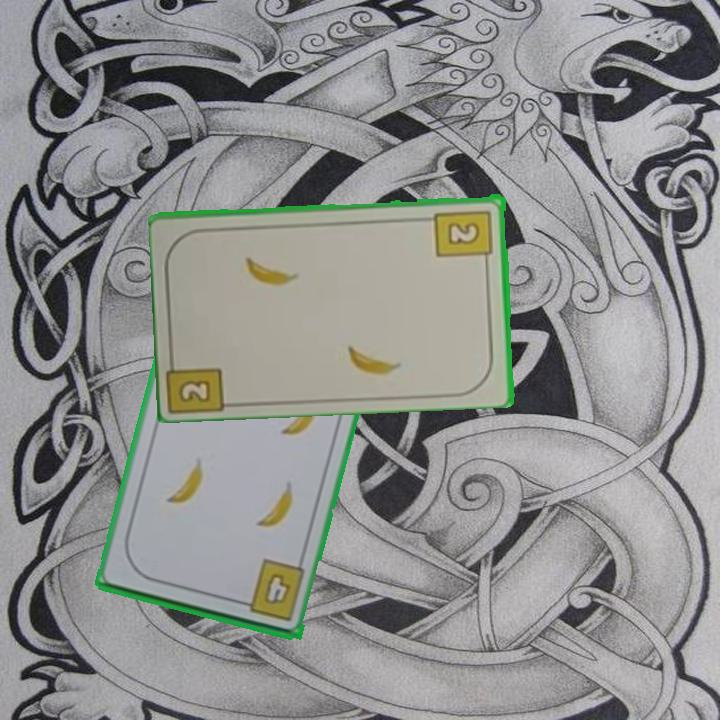2b: (166, 348, 230, 413), (432, 206, 495, 267)
4b: (234, 555, 308, 624)
